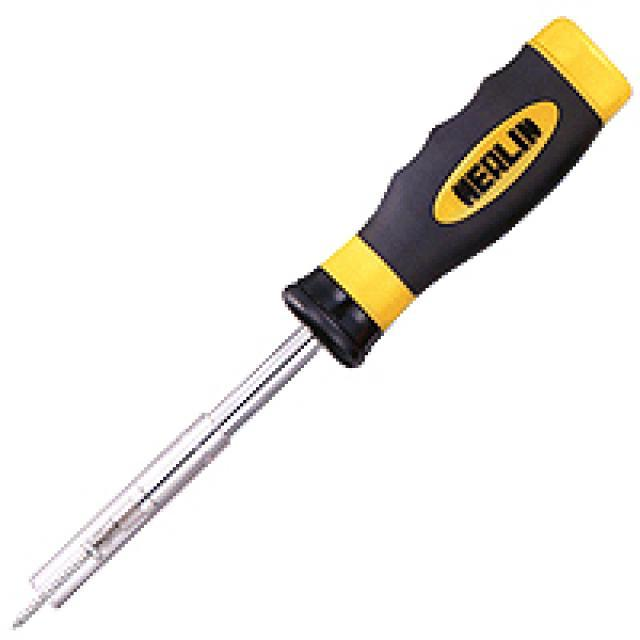screwdriver: (0, 16, 634, 627)
